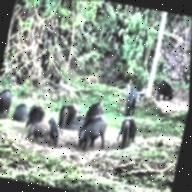boar: (73, 113, 112, 160), (24, 119, 53, 147), (154, 79, 179, 109), (117, 114, 140, 146), (123, 83, 143, 119), (23, 104, 48, 131), (0, 85, 15, 125)
